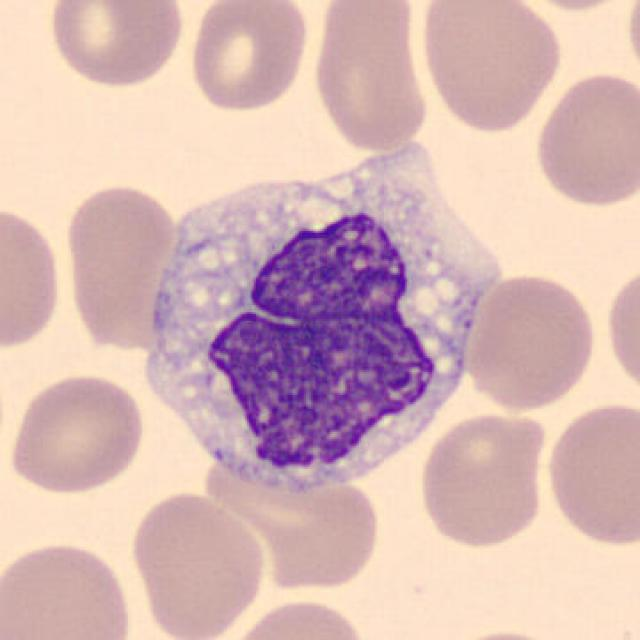Monocyte: (125, 152, 503, 502)
RBC: (194, 453, 383, 594), (126, 486, 268, 640), (59, 178, 180, 353), (414, 0, 566, 134), (461, 268, 599, 414), (414, 407, 551, 550), (308, 0, 432, 155), (5, 369, 150, 497), (530, 67, 638, 212), (540, 397, 638, 550), (185, 0, 313, 116), (0, 536, 139, 640), (42, 0, 186, 90), (0, 200, 66, 354), (219, 594, 373, 640), (602, 259, 640, 405), (434, 626, 574, 640), (503, 0, 640, 14), (622, 0, 640, 92)
